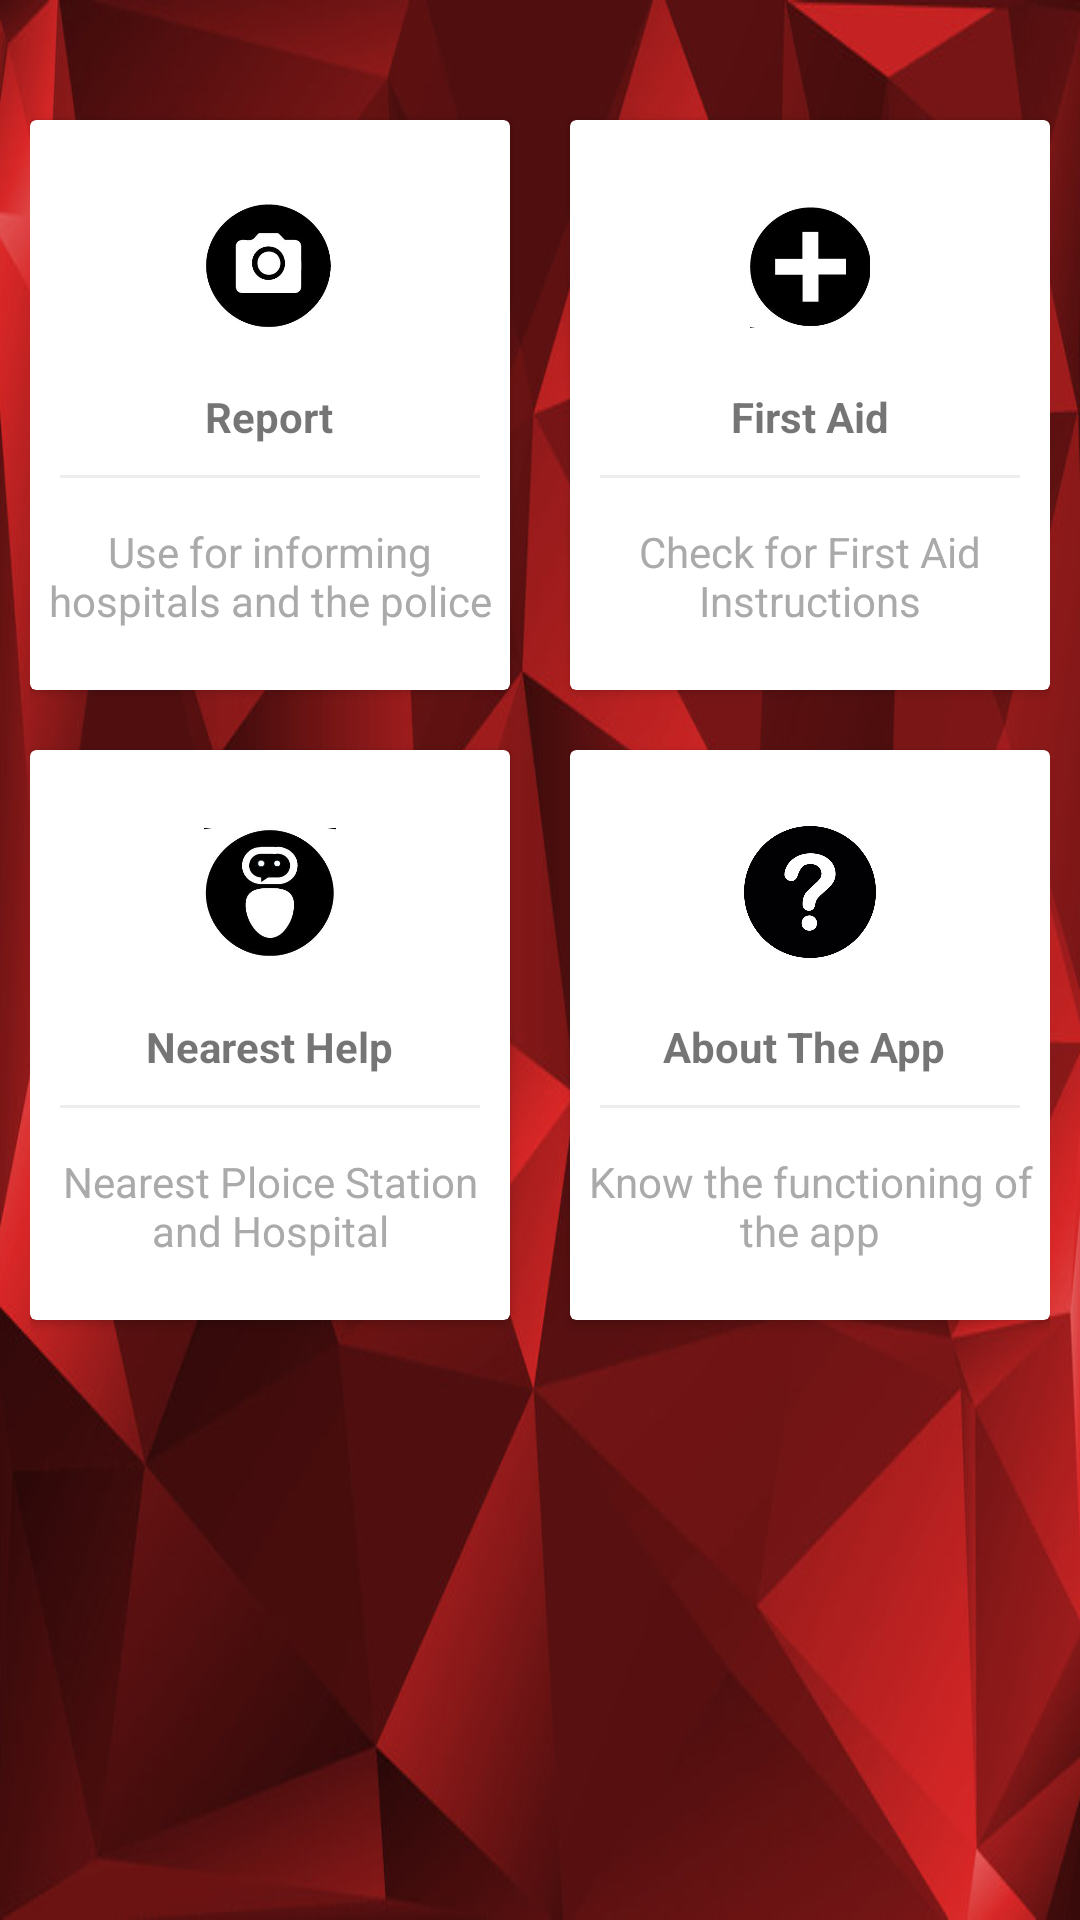

Icons on this 1080 x 1920 Android screen, each with its box as box=[x1, y1, x2, y2]:
camera: box=[206, 204, 331, 327]
